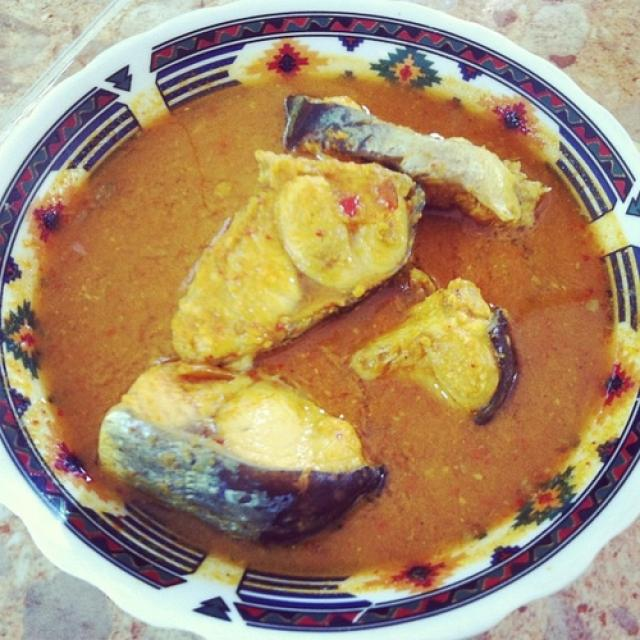汤锅炖物: (40, 45, 599, 596)
